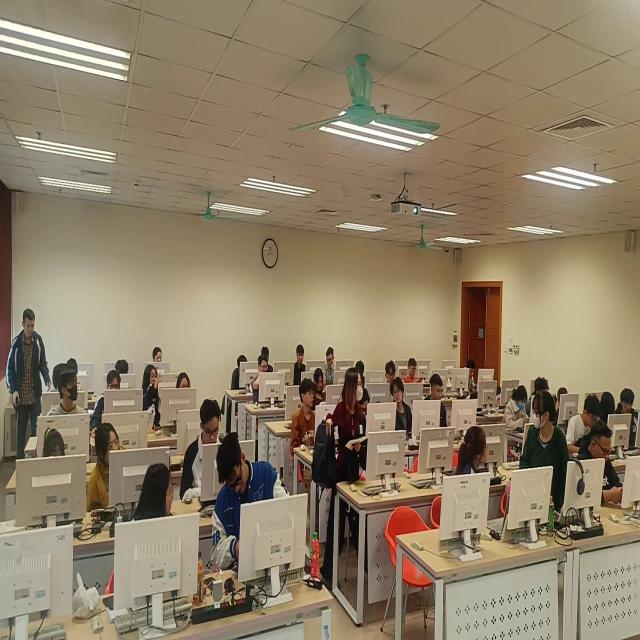raise_head: (47, 369, 88, 417), (291, 379, 317, 453), (389, 377, 414, 438), (143, 364, 162, 435), (386, 360, 397, 385), (177, 372, 192, 389), (153, 347, 164, 363)
stand: (321, 368, 368, 582), (6, 307, 53, 466)
using_computer: (181, 398, 223, 502), (579, 421, 625, 511), (567, 394, 602, 455), (91, 371, 122, 437), (425, 375, 449, 428), (503, 387, 529, 433), (528, 377, 551, 418), (253, 356, 269, 407), (43, 429, 66, 459), (313, 368, 327, 406), (295, 345, 307, 387), (326, 348, 337, 386), (53, 365, 68, 391), (262, 347, 275, 373), (556, 386, 569, 412), (356, 359, 366, 388), (116, 359, 130, 374), (68, 358, 79, 374)
using_phone: (464, 359, 479, 396), (406, 358, 423, 384)
